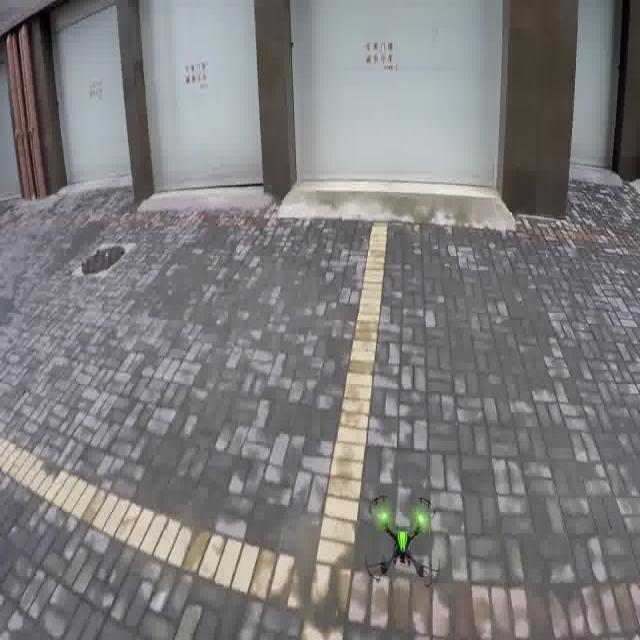drone: (357, 480, 447, 608)
